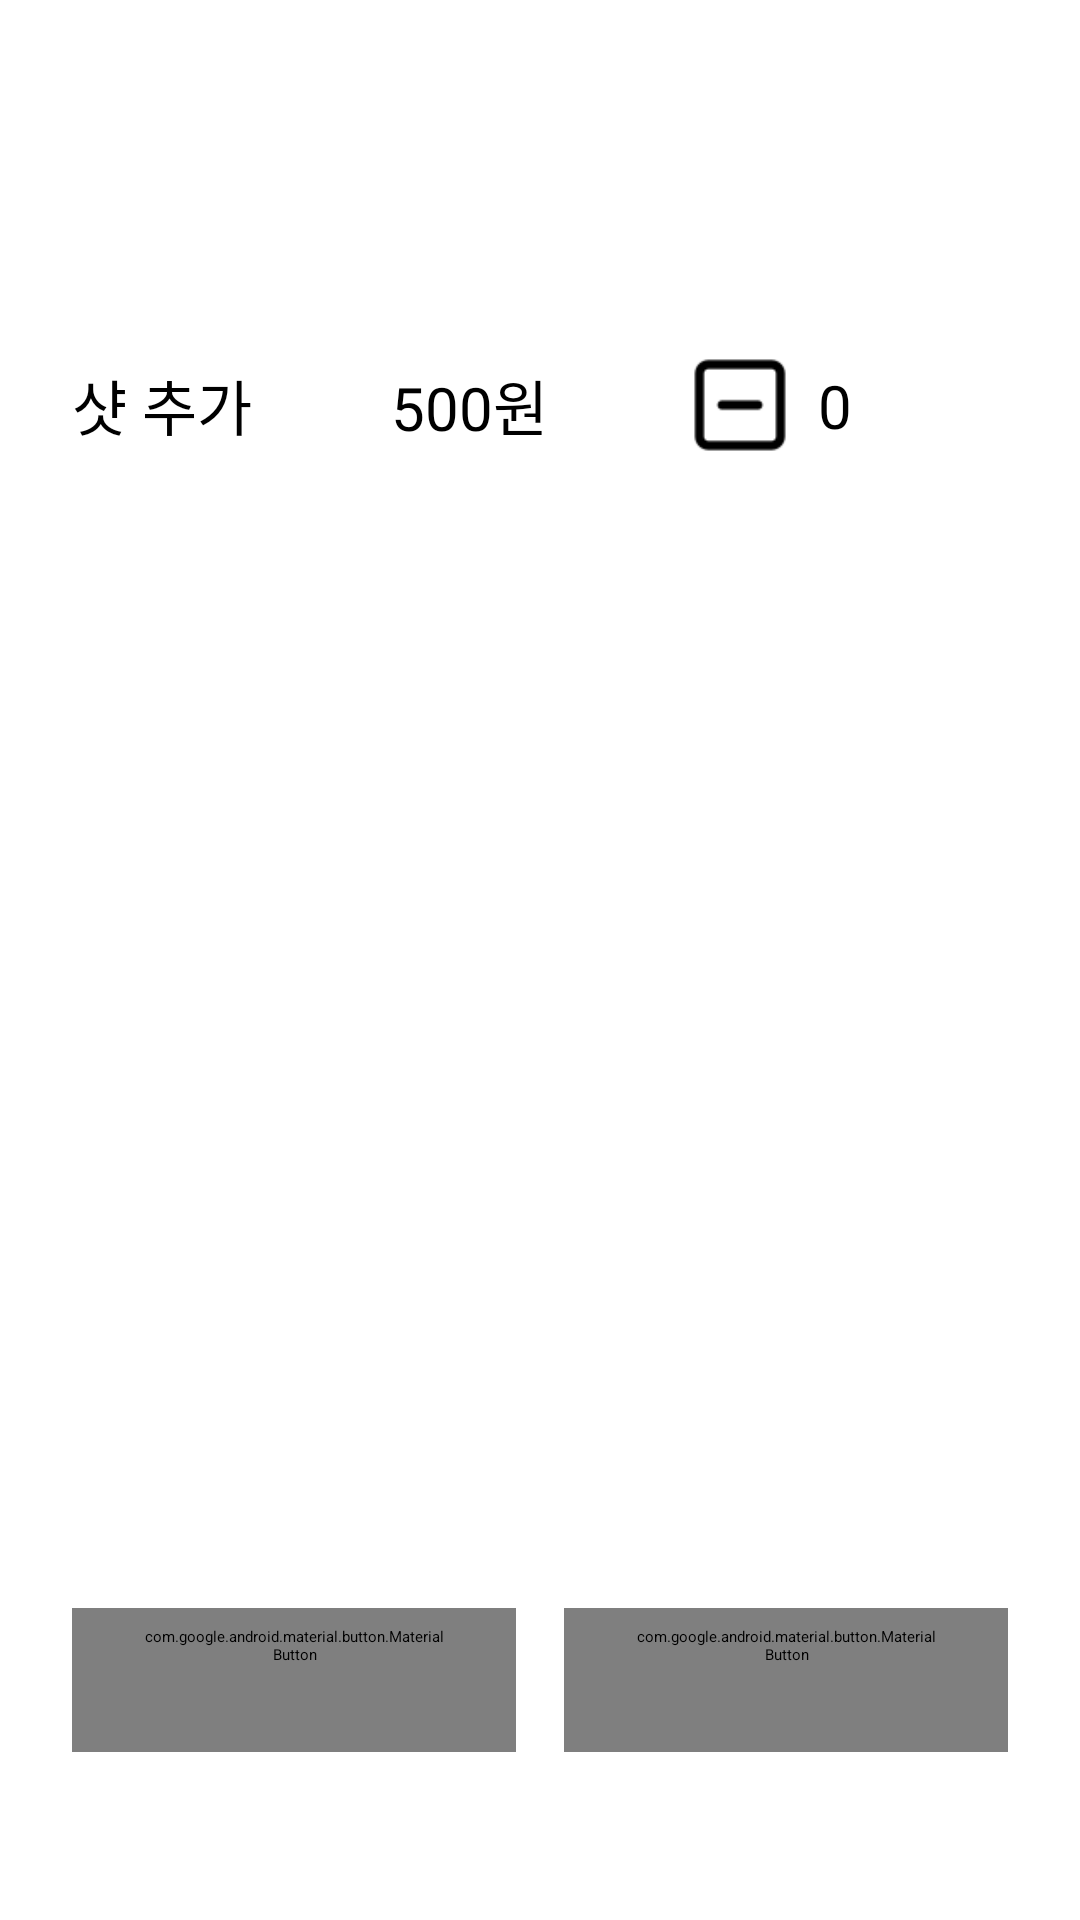

Icon bounding boxes for this 1080 × 1920 phone screenshot, format (x1, y1, x2, y2):
square minus: (694, 359, 786, 451)
